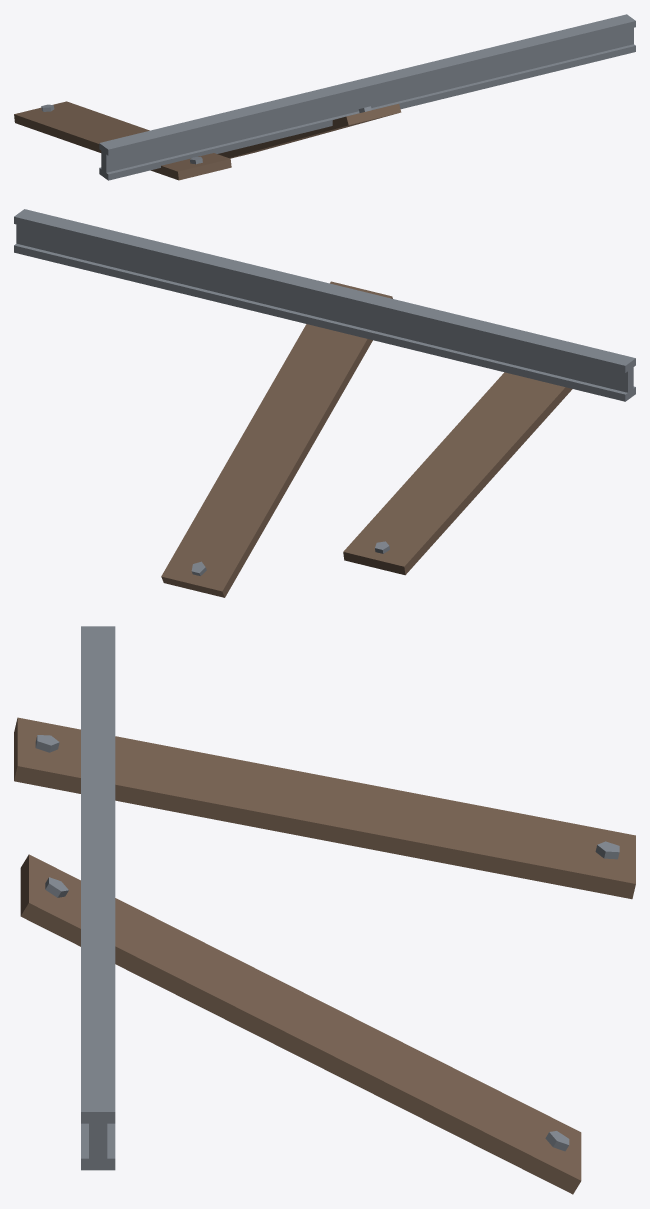
File: Track_HalfRight.fbx
3 renders of one model, top to bottom at view 1: azimuth 30°, elevation 25°; view 2: azimuth 150°, elevation 25°; view 3: azimuth 270°, elevation 25°, orthographic. The views are drawn at different scales.
Visible parts, largest first — view 1: Track_HalfRight; view 2: Track_HalfRight; view 3: Track_HalfRight.
Boxes of the visible parts, x1,y1,x2,y2 form: Track_HalfRight: [14, 14, 635, 180]; Track_HalfRight: [14, 209, 635, 597]; Track_HalfRight: [14, 626, 635, 1194].
Size of the model in its own units: 200 by 60.17 by 108.
